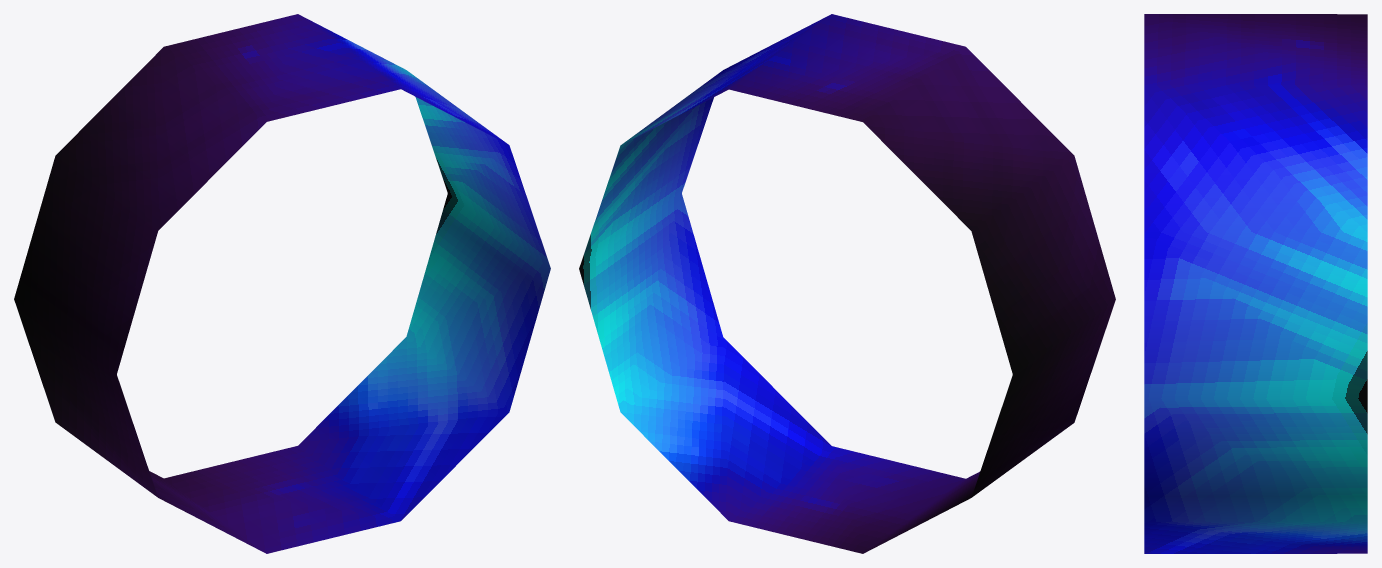
The picture shows the model from 3 angles, left to right: view 1: azimuth 30°, elevation 25°; view 2: azimuth 150°, elevation 25°; view 3: azimuth 270°, elevation 25°; orthographic projection. The views are drawn at different scales.
Visible parts, largest first — view 1: Model_Circle03; view 2: Model_Circle03; view 3: Model_Circle03.
Boxes of the visible parts, <box> form: Model_Circle03: <box>14,14,550,553</box>; Model_Circle03: <box>579,14,1115,553</box>; Model_Circle03: <box>1144,14,1367,553</box>.
Bounding box in the file's own units: 2.34 × 2.22 × 0.9602.
